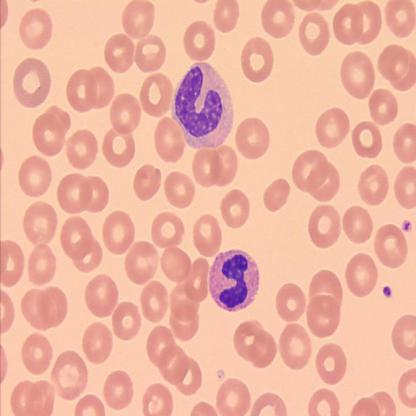Band Neutrophil: (170, 58, 236, 150), (208, 246, 262, 314)
